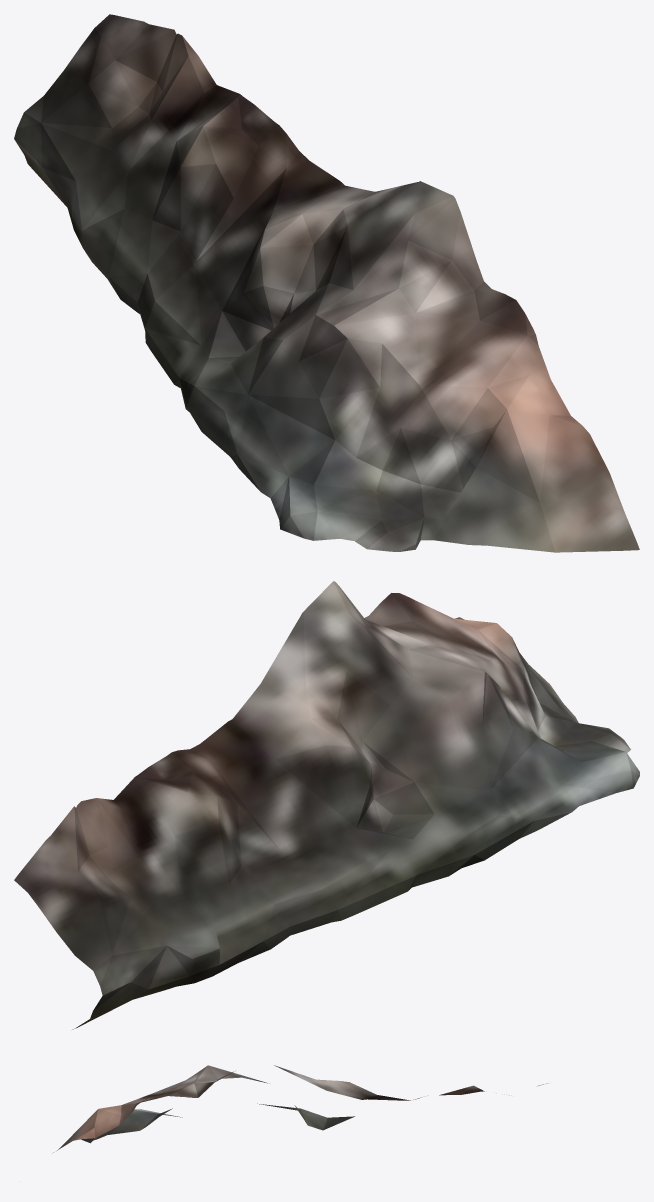
3 renders of one model, top to bottom at view 1: azimuth 30°, elevation 25°; view 2: azimuth 150°, elevation 25°; view 3: azimuth 270°, elevation 25°, orthographic. The views are drawn at different scales.
Size of the model in its own units: 0.2903 by 0.2429 by 1.07.
Materials: 1 (1 with a texture image).
